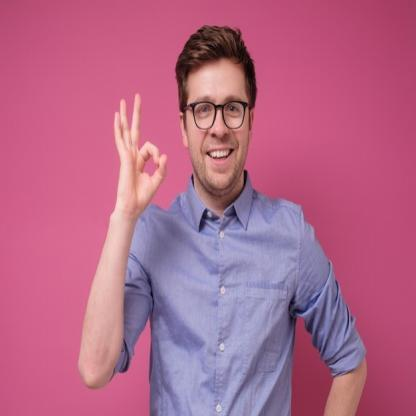ok: (110, 89, 170, 218)
